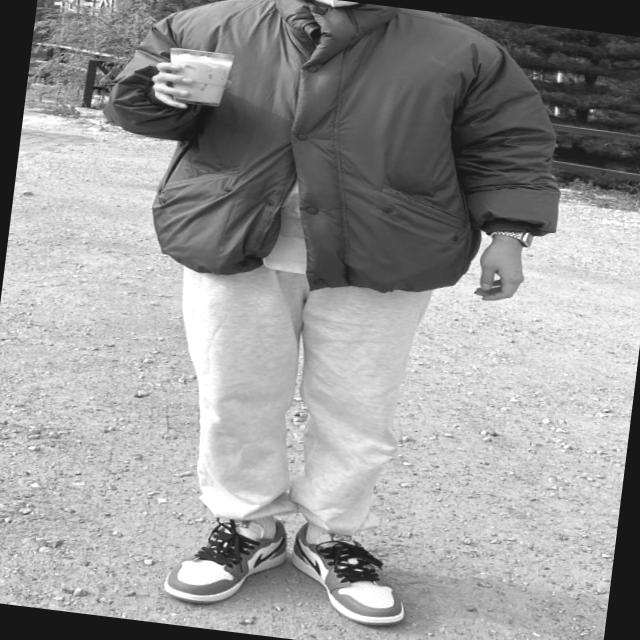padding: (86, 0, 583, 318)
trainingpants: (152, 252, 438, 546)
